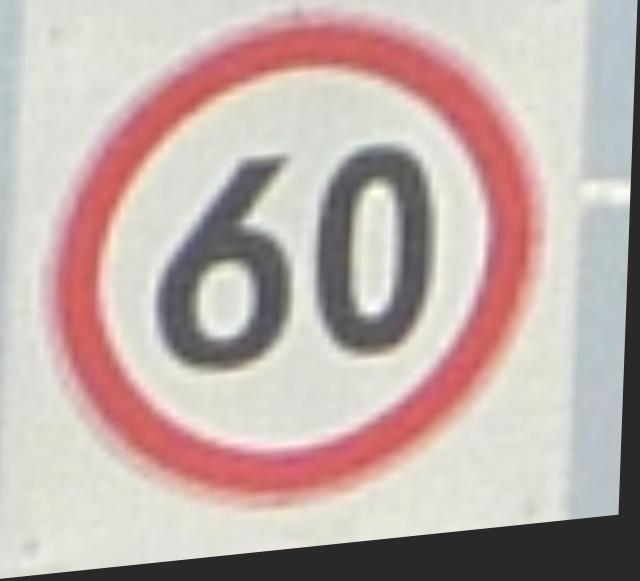limit60: (29, 0, 571, 543)
